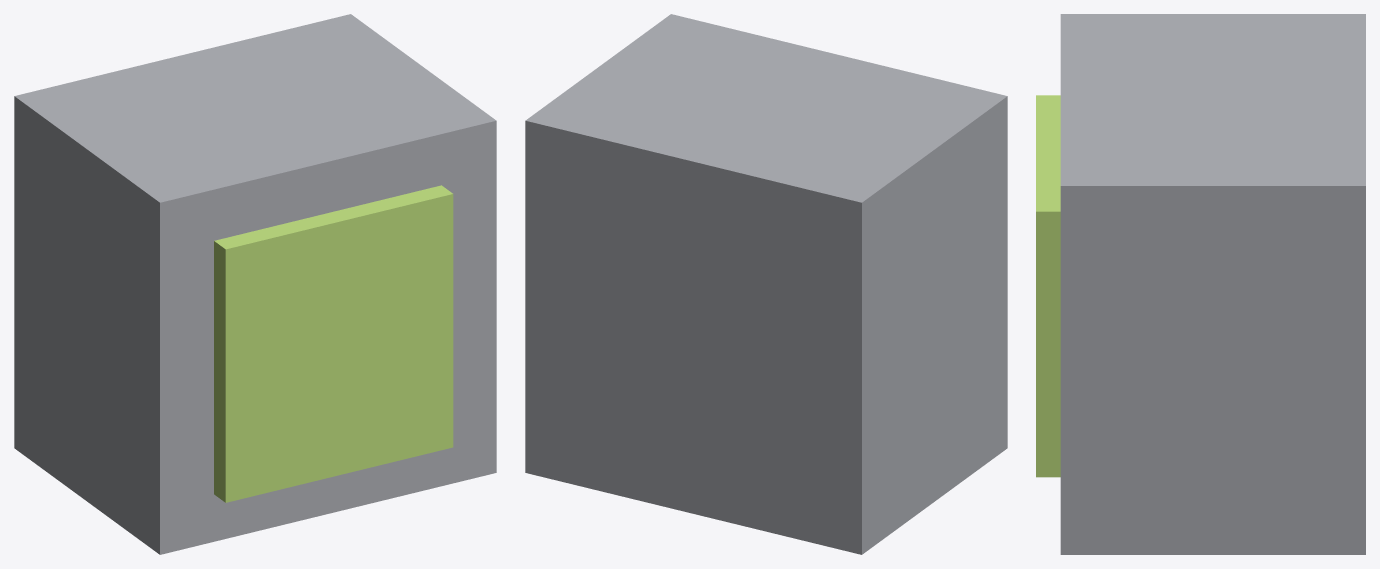
File: test_hako_003.glb
3 renders of one model, left to right at view 1: azimuth 30°, elevation 25°; view 2: azimuth 150°, elevation 25°; view 3: azimuth 270°, elevation 25°, orthographic. The views are drawn at different scales.
Parts seen in each view (by area): view 1: hako, tobira; view 2: hako; view 3: hako, tobira.
Boxes of the visible parts, bbox=[...] form: hako: bbox=[14, 14, 496, 554]; tobira: bbox=[214, 185, 453, 502]; hako: bbox=[525, 14, 1007, 554]; hako: bbox=[1060, 14, 1365, 554]; tobira: bbox=[1036, 95, 1060, 477].
Size of the model in its own units: 2 by 2 by 1.62.
